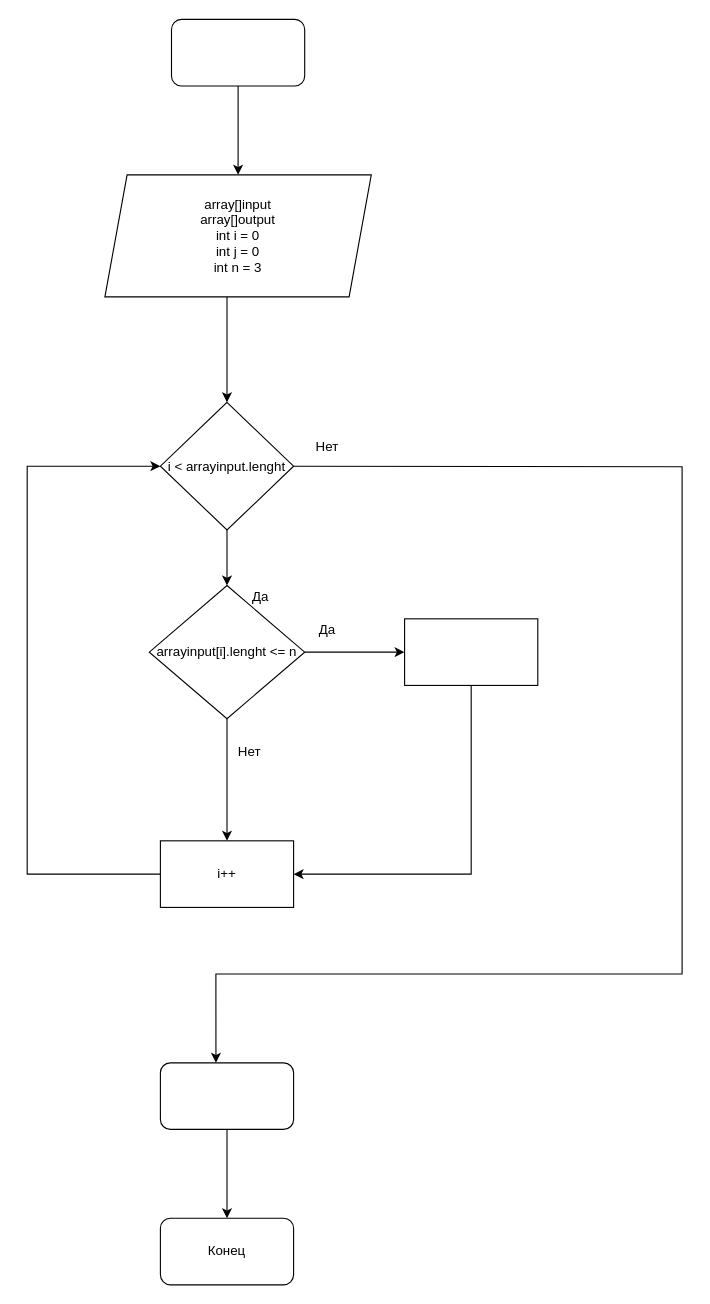
Image size: 710x1304. Some labels were removed from this diagram. The centre of each missing label's shape, as x and y in pixels:
"arrayoutput" belongs at point (226, 1095).
"arrayoutput[j] = arrayinput[i]" belongs at point (470, 651).
"Начало" belongs at point (237, 52).
